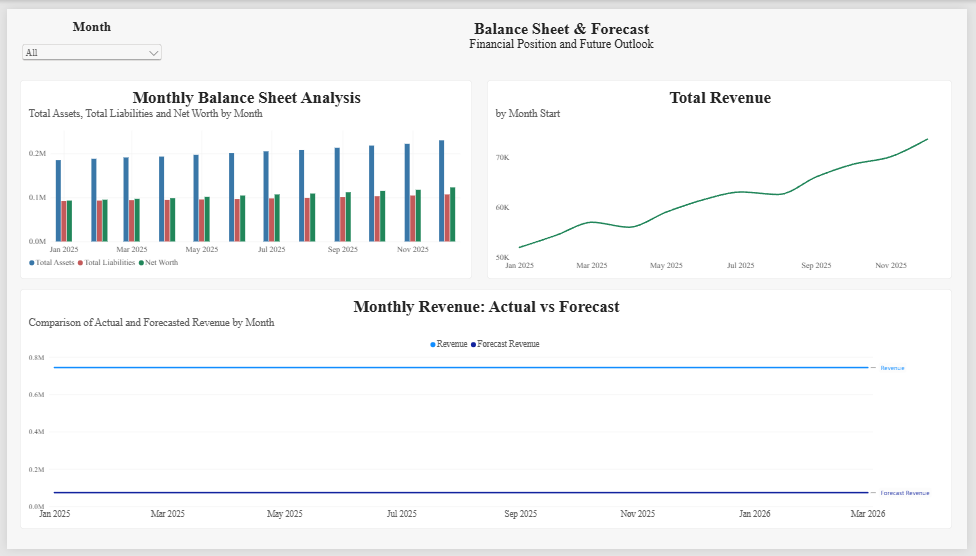

Layout of this report page (visuals, bound fields, positions):
{"tool":"powerbi","page":{"name":"Balance Sheet & Forecast","canvas":[1920,1080],"ordinal":2},"visuals":[{"type":"clusteredColumnChart","title":"Monthly Balance Sheet Analysis","fields":{"Category":["Financial_Data.Month"],"Y":["Financial_Data.Total Assets","Financial_Data.Total Liabilities","Financial_Data.Net Worth"]},"box":[26,142,904,398],"z":0},{"type":"lineChart","fields":{"Category":["Financial_Data.Month Start"],"Y":["Financial_Data.Total Revenue"]},"box":[960,142,930,398],"z":1000},{"type":"lineChart","title":"Monthly Revenue: Actual vs Forecast","fields":{"Category":["Revenue Forecast.Month"],"Y":["Sum(Financial_Data.Revenue)","Financial_Data.Forecast Revenue"]},"box":[26,560,1864,480],"z":2000},{"type":"slicer","title":"Month","fields":{"Values":["Financial_Data.Month"]},"box":[26,20,288,100],"z":3000},{"type":"textbox","box":[328,20,1562,100],"z":4000}]}

Visuals, with their boxes in screenshot pixels (x1, y1, x2, y2), scaled from the page's 1920x1080 canvas onto the 976x556 screenshot:
"Monthly Balance Sheet Analysis" clusteredColumnChart: box(13, 73, 473, 278)
lineChart - Financial_Data.Month Start x Financial_Data.Total Revenue: box(488, 73, 961, 278)
"Monthly Revenue: Actual vs Forecast" lineChart: box(13, 288, 961, 535)
"Month" slicer: box(13, 10, 160, 62)
textbox: box(167, 10, 961, 62)
